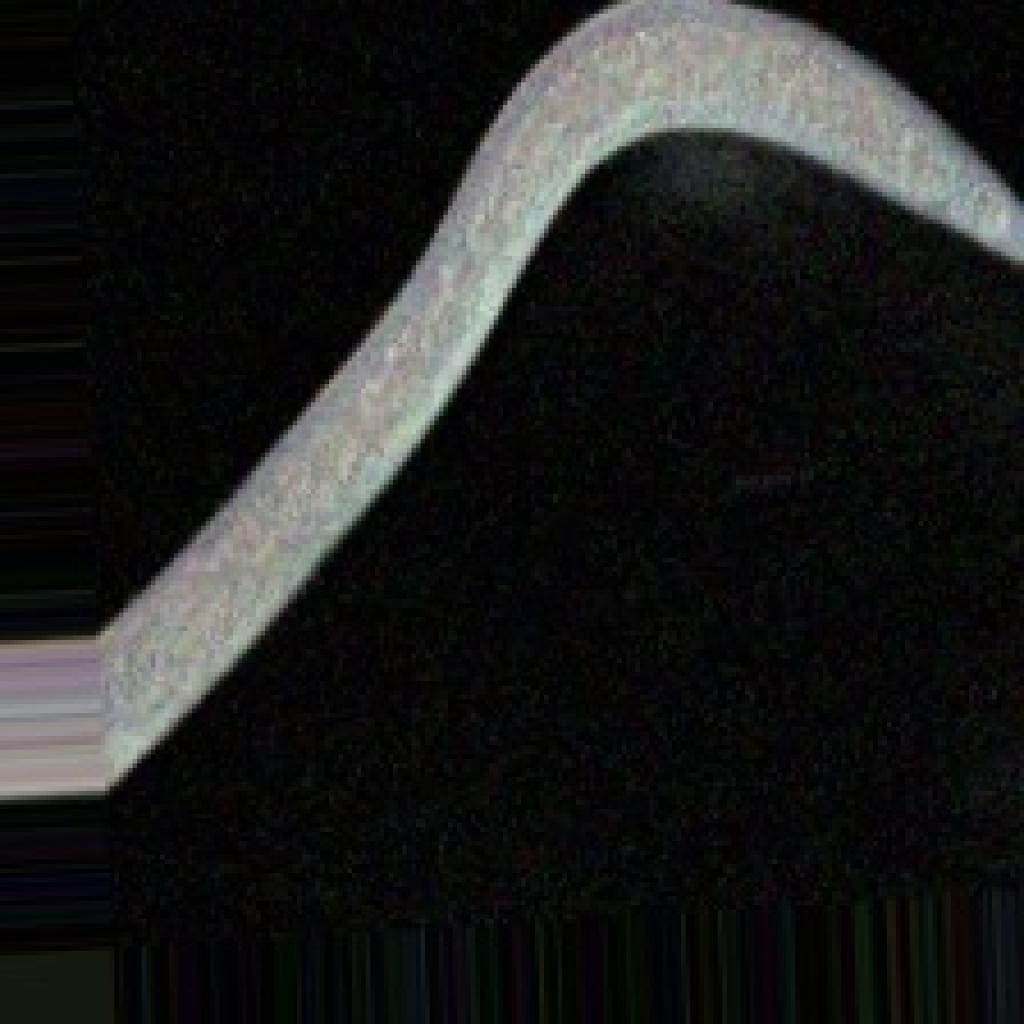Nematode: (68, 0, 1019, 1019)
